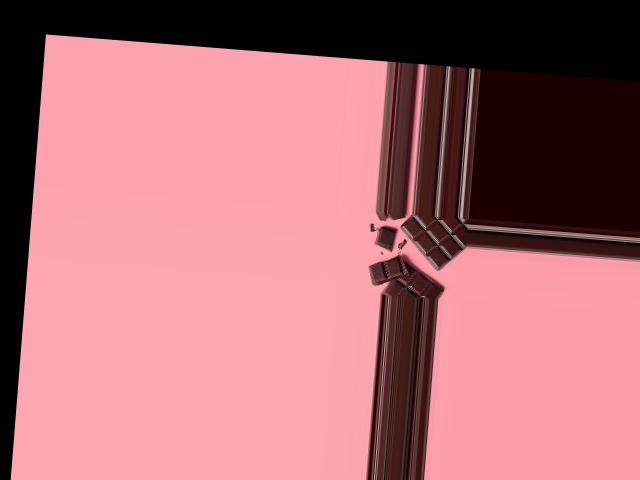chocolate: (372, 212, 469, 296)
